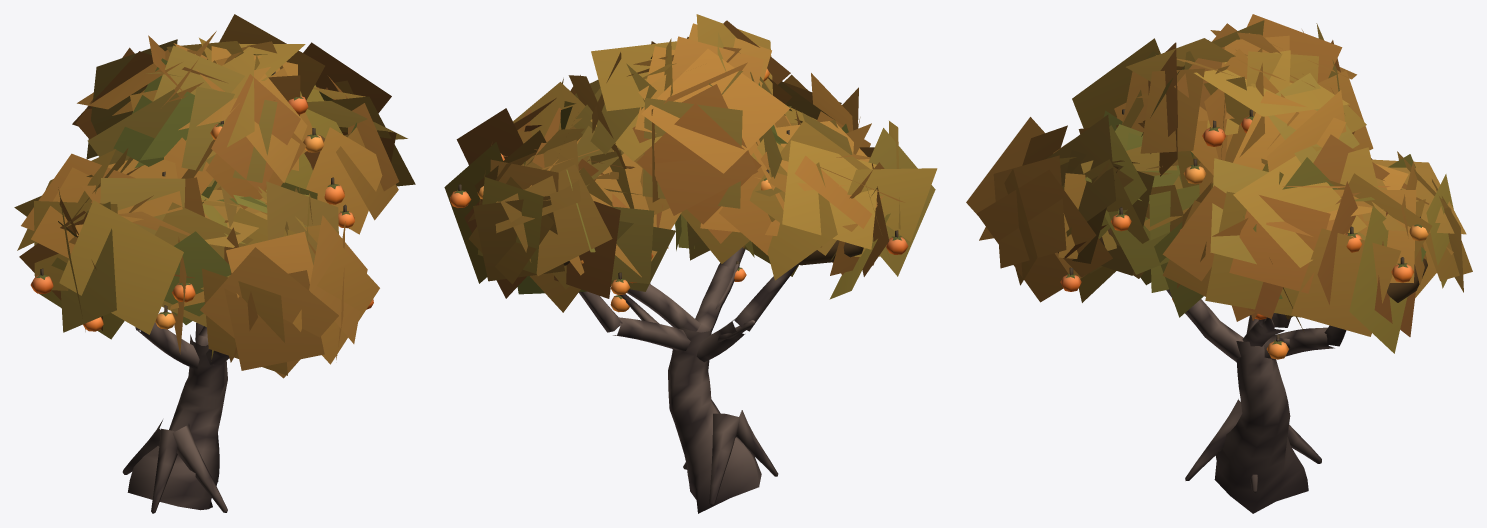
Rendered from tree-persimmon-v0.glb.
The picture shows the model from 3 angles, left to right: view 1: azimuth 30°, elevation 25°; view 2: azimuth 150°, elevation 25°; view 3: azimuth 270°, elevation 25°; orthographic projection. The views are drawn at different scales.
Parts seen in each view (by area): view 1: cards_round, bark, d_body; view 2: cards_round, bark, d_body, foliage; view 3: cards_round, bark, d_body, foliage.
Part boxes in pixels (bbox=[...]): cards_round: bbox=[14, 14, 415, 378]; bark: bbox=[122, 322, 229, 513]; d_body: bbox=[30, 71, 373, 331]; cards_round: bbox=[444, 14, 937, 312]; bark: bbox=[578, 247, 798, 513]; d_body: bbox=[450, 68, 908, 312]; foliage: bbox=[563, 240, 863, 265]; cards_round: bbox=[966, 14, 1472, 353]; bark: bbox=[1166, 289, 1346, 513]; d_body: bbox=[1060, 109, 1429, 359]; foliage: bbox=[1099, 228, 1427, 302].
Bounding box in the file's own units: 4.56 × 4.98 × 4.72.
